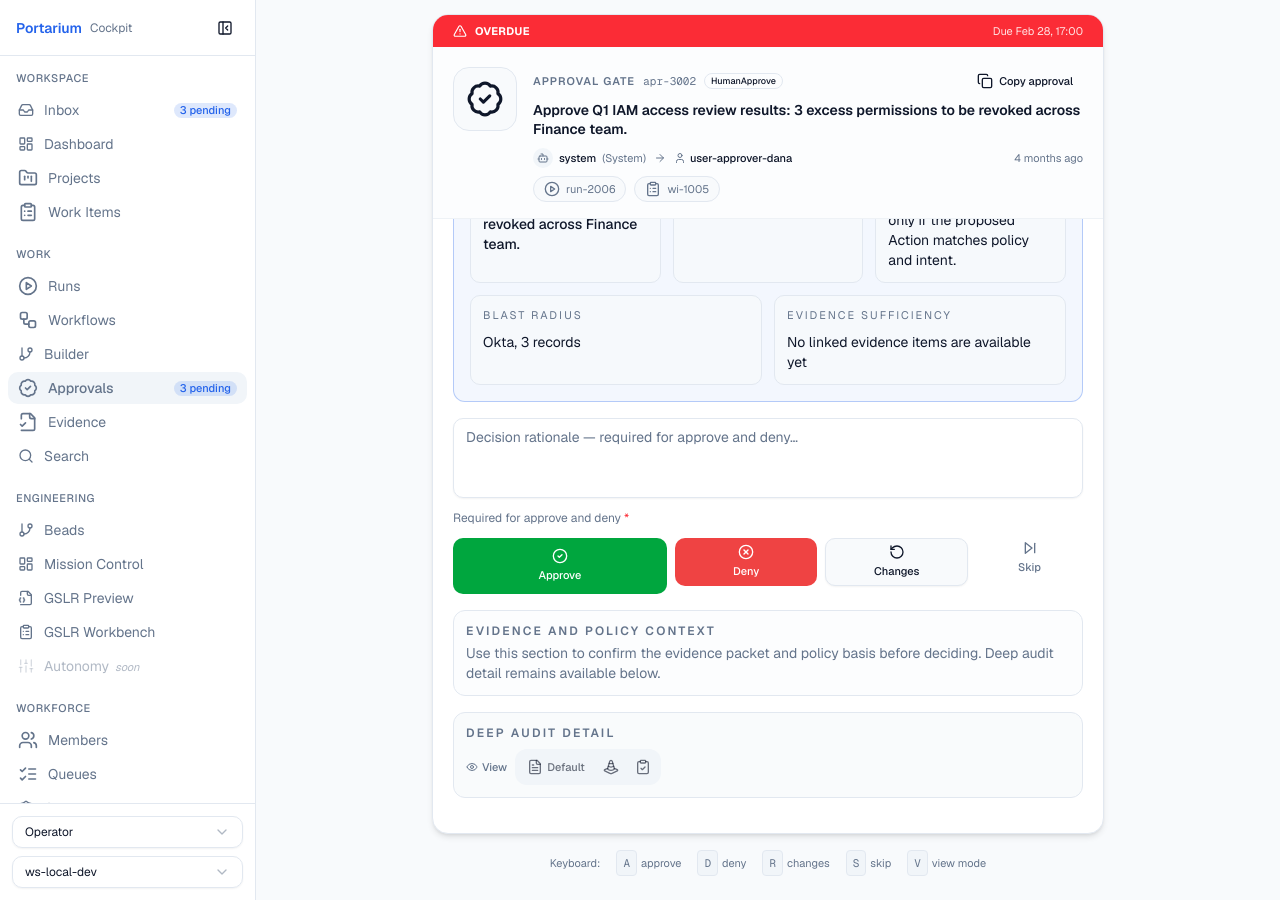
Approvals triage page › does not advance to another approval after requesting changes a policy-studio focused review
(page scrolled)
Step 1. Click the button "Changes" → x=897, y=562, box [826, 538, 968, 586]
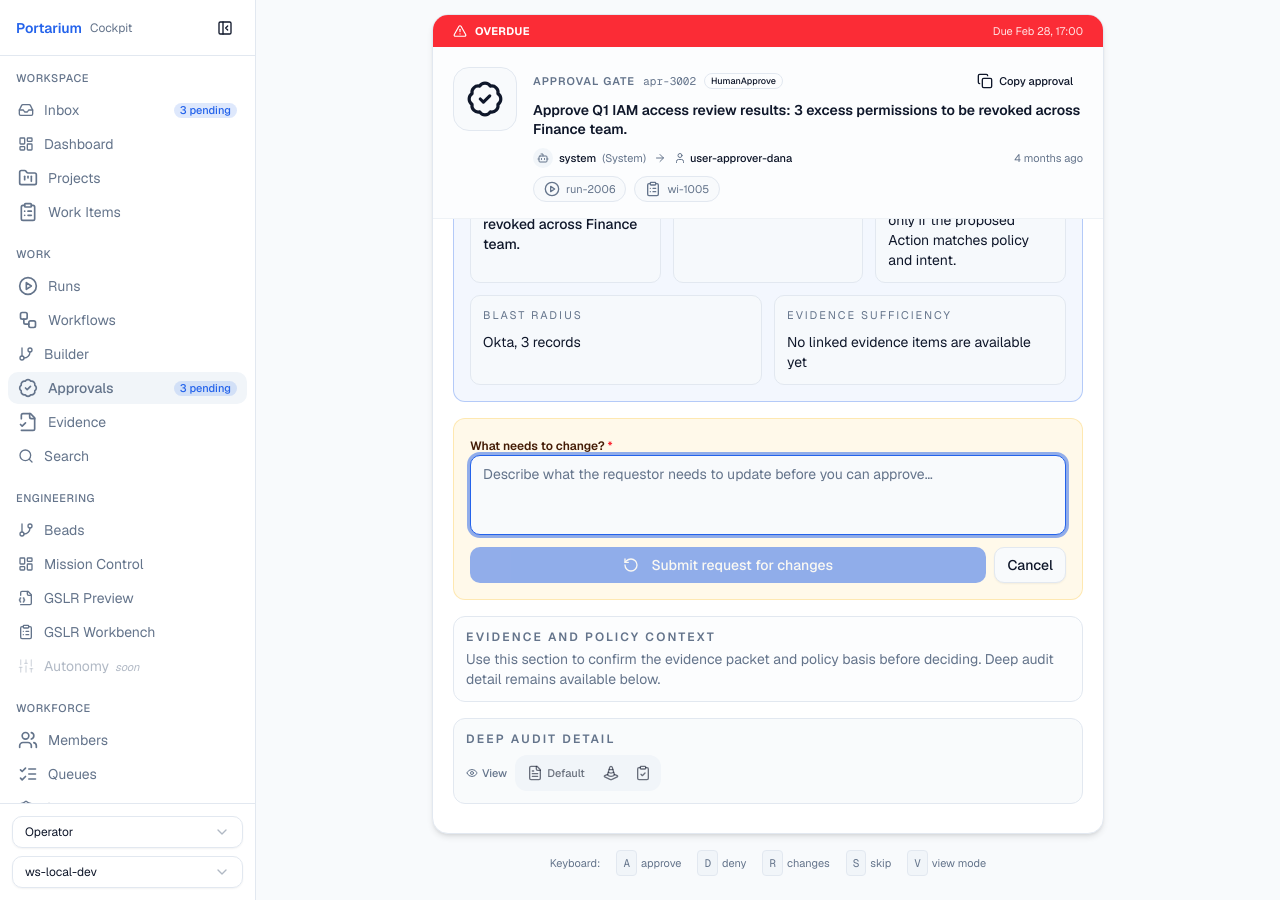
Step 2. Replace the text in the text box with placeholder "Describe what the requestor needs to update" with "Attach updated approval evidence" → x=768, y=495, box [470, 455, 1066, 535]
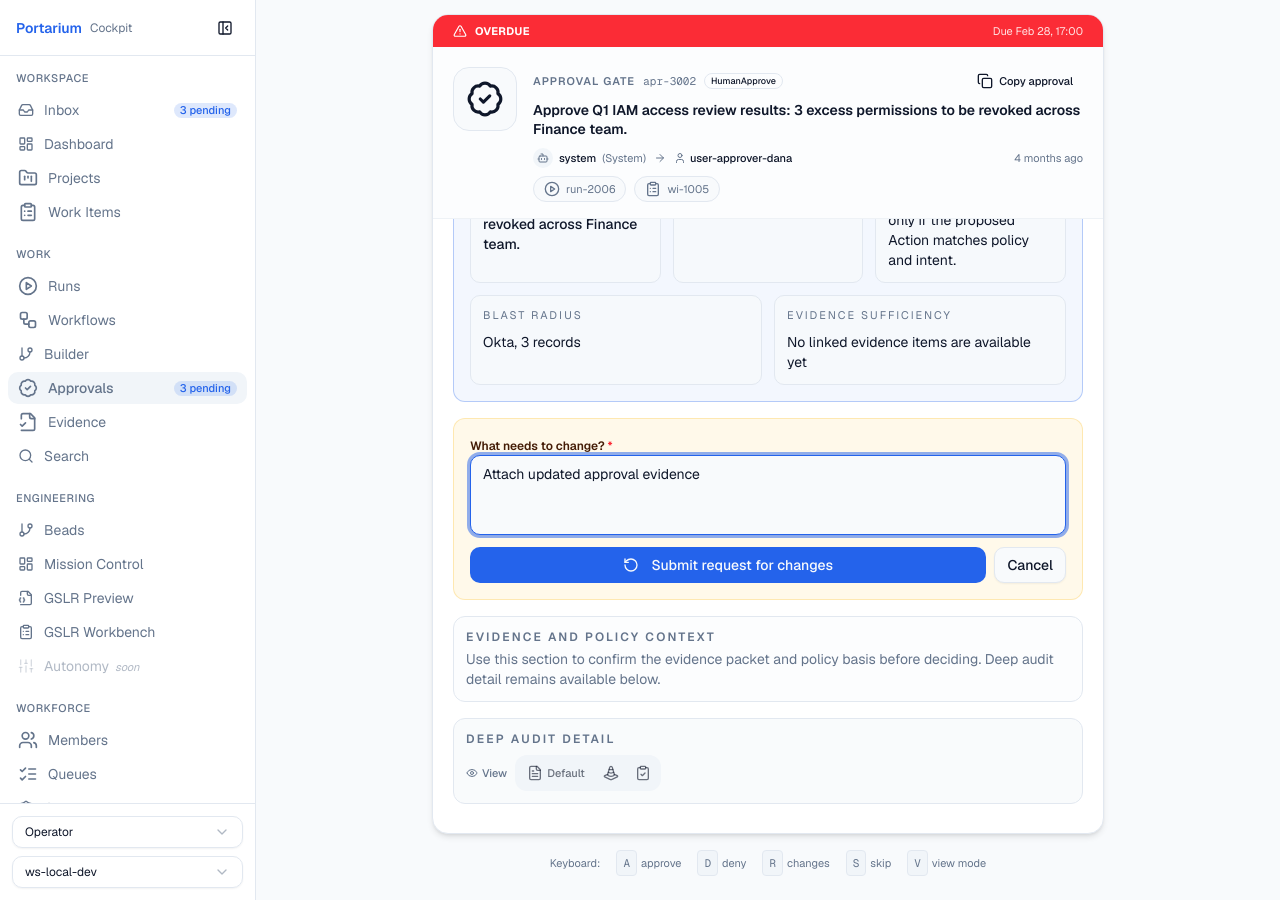
Step 3. Click the button "Submit request for changes" → x=728, y=565, box [470, 547, 986, 583]
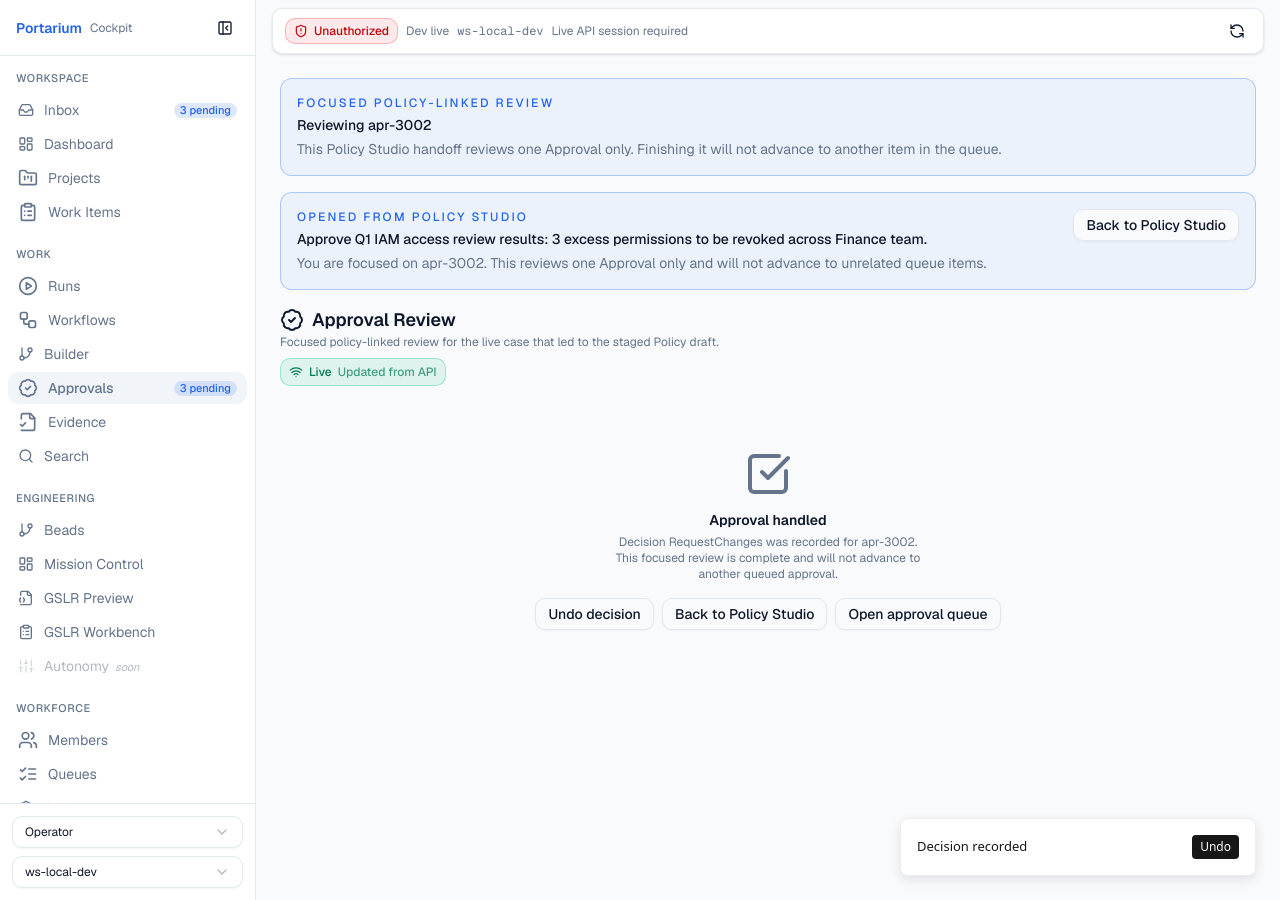
Now the heading "Approval handled" is shown, box [709, 510, 827, 530]
Now the text "will not advance to another queued approval" is shown, box [616, 534, 920, 582]
Now the link "Back to Policy Studio" in the row of "Opened from Policy Studio" is shown, box [1073, 209, 1239, 241]
